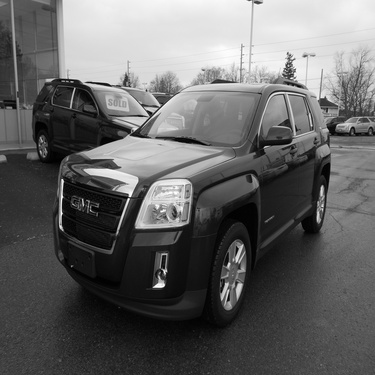car: (36, 71, 357, 323), (13, 70, 138, 168), (117, 60, 178, 114), (334, 109, 374, 137)
